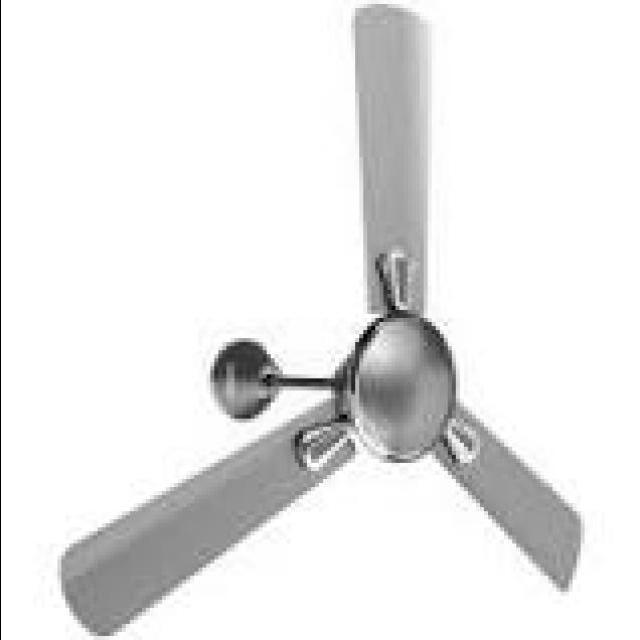fan: (55, 5, 582, 638)
